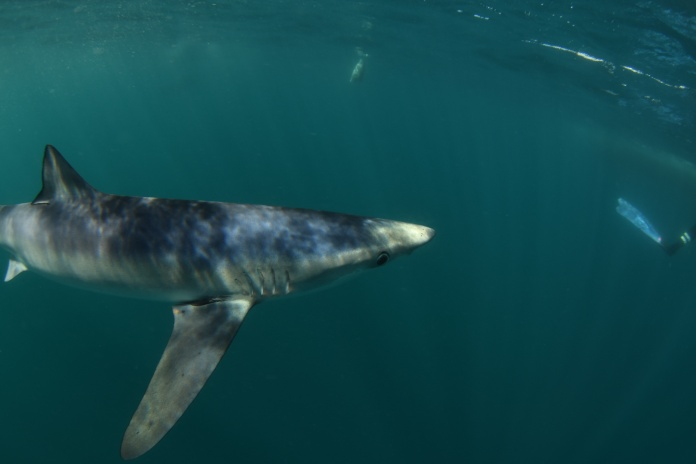Azul: (1, 138, 464, 457)
